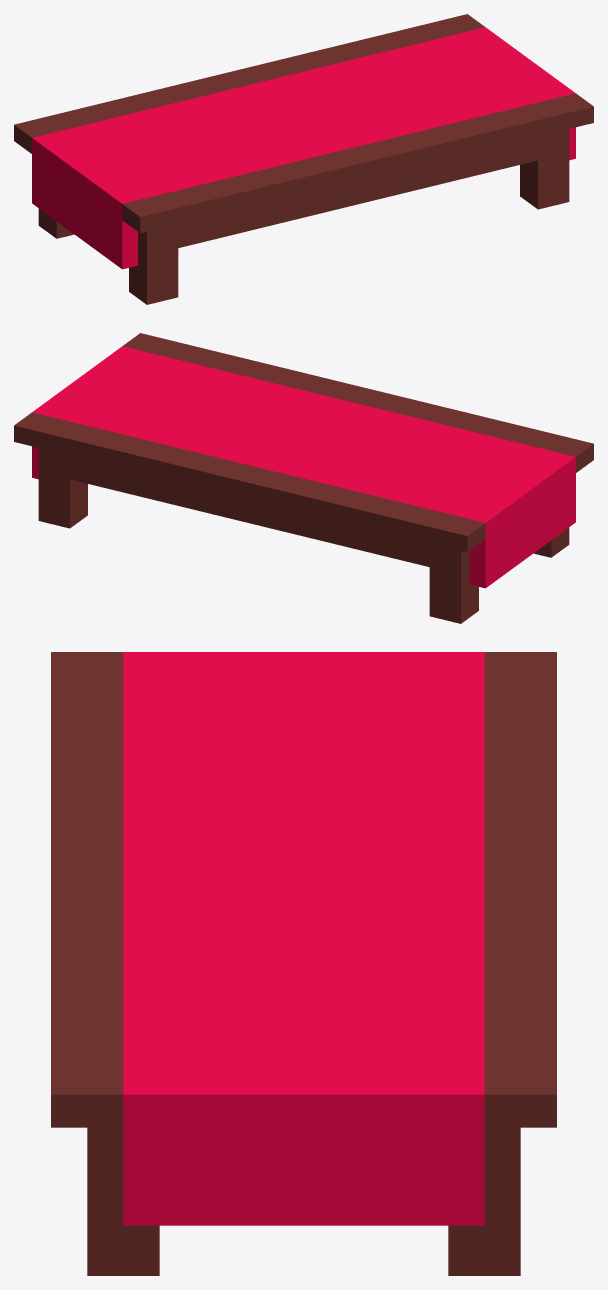
File: large_table_b_red.obj
The picture shows the model from 3 angles, top to bottom: view 1: azimuth 30°, elevation 25°; view 2: azimuth 150°, elevation 25°; view 3: azimuth 270°, elevation 25°; orthographic projection. The views are drawn at different scales.
Bounding box in the file's own units: 2.9 × 0.6 × 1.4.
1 material, 1 textured.
